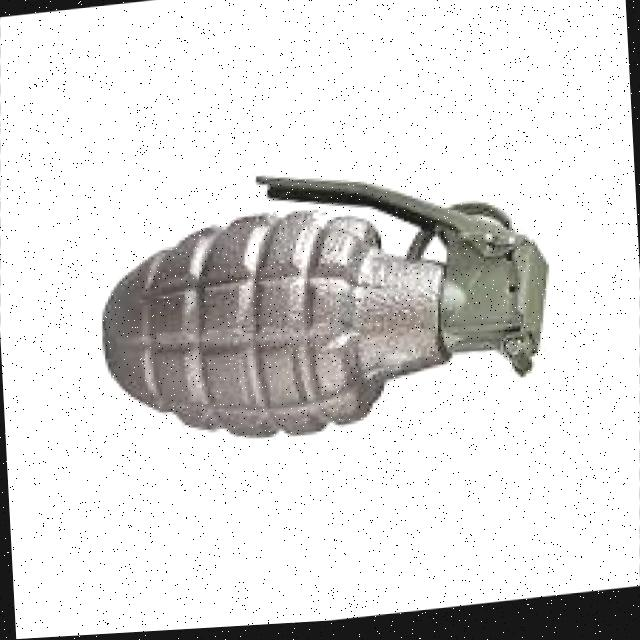grenade: (84, 136, 566, 488)
